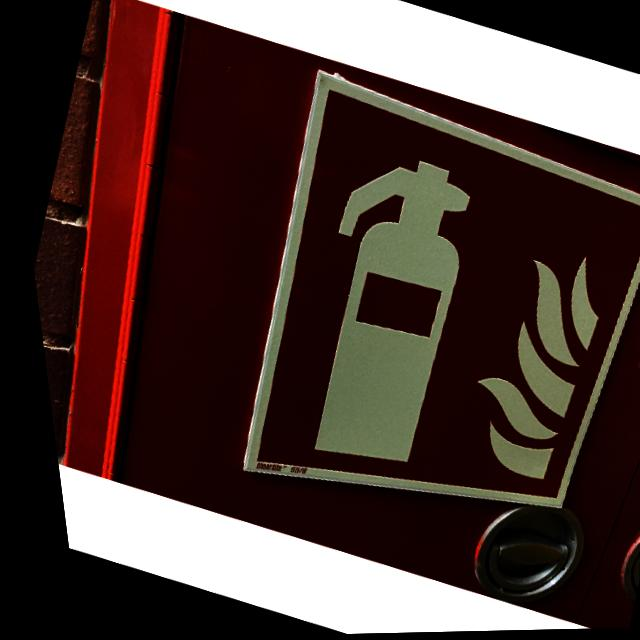fire extinguisher: (180, 64, 640, 583)
